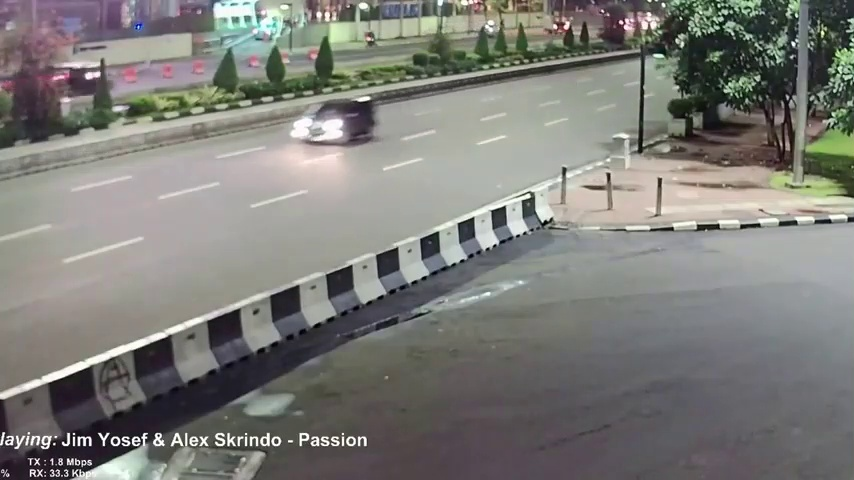car: (295, 95, 377, 144)
